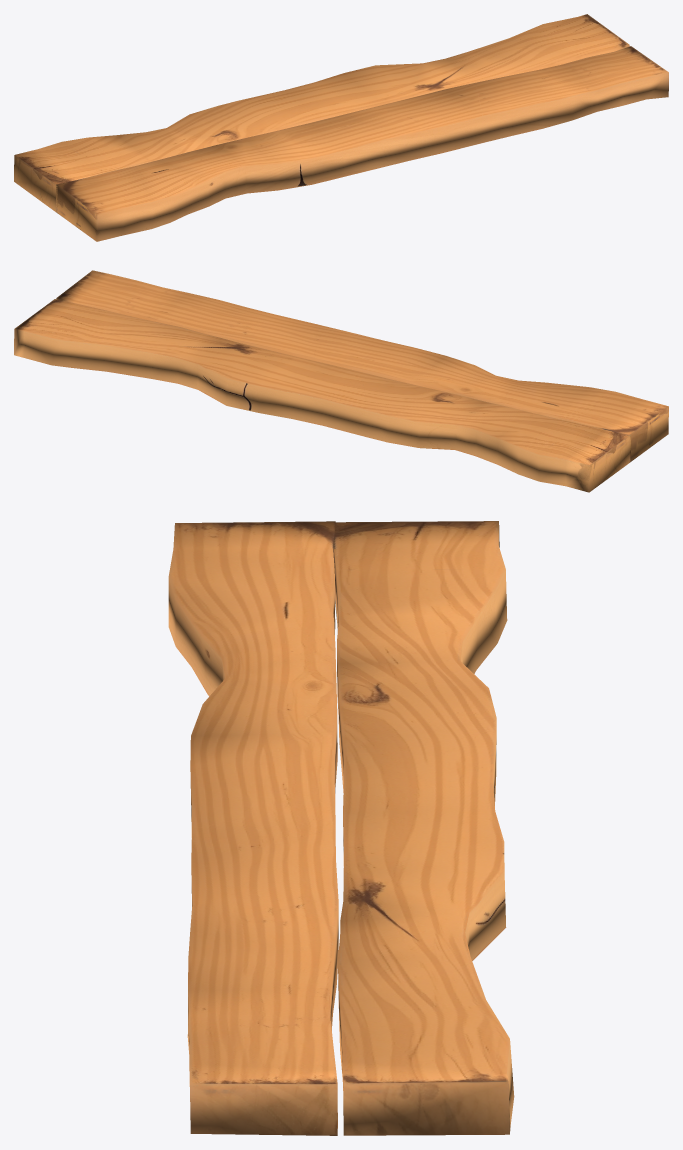
Rendered from plank-chipped.glb.
3 renders of one model, top to bottom at view 1: azimuth 30°, elevation 25°; view 2: azimuth 150°, elevation 25°; view 3: azimuth 270°, elevation 25°, orthographic. The views are drawn at different scales.
Visible parts, largest first — view 1: Existing Meshy board axis alignment; view 2: Existing Meshy board axis alignment; view 3: Existing Meshy board axis alignment.
Boxes of the visible parts, x1,y1,x2,y2 form: Existing Meshy board axis alignment: (14, 14, 668, 241); Existing Meshy board axis alignment: (14, 270, 668, 492); Existing Meshy board axis alignment: (168, 521, 514, 1135).
Size of what is drawn, in the model's own units: 1 by 0.0476 by 0.2612.
1 material, 1 textured.
